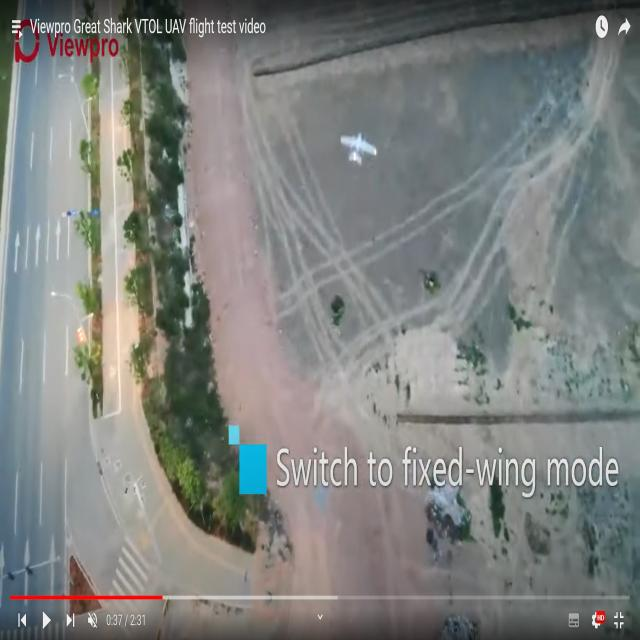iha: (339, 128, 377, 167)
